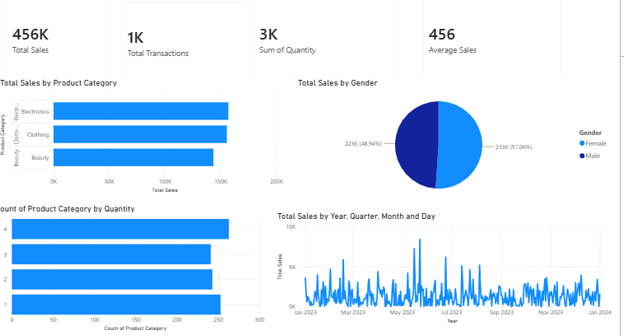

The dashboard page shown, as its layout file describes it:
{"tool":"powerbi","page":{"name":"Page 1","canvas":[1280,720],"ordinal":0},"visuals":[{"type":"cardVisual","fields":{"Data":["retail_sales_dataset.Total Sales"]},"box":[10.1,0,246.9,204.9],"z":0},{"type":"cardVisual","fields":{"Data":["retail_sales_dataset.Total Transactions"]},"box":[245.2,11.8,292.3,193.2],"z":2},{"type":"cardVisual","fields":{"Data":["Sum(retail_sales_dataset.Quantity)"]},"box":[514,0,332.6,204.9],"z":3},{"type":"cardVisual","fields":{"Data":["retail_sales_dataset.Average Sales"]},"box":[860.1,0,317.5,204.9],"z":4},{"type":"clusteredBarChart","fields":{"Category":["retail_sales_dataset.Product Category","retail_sales_dataset.Product Category"],"Y":["retail_sales_dataset.Total Sales"]},"box":[10.1,183.1,587.9,240.2],"z":5},{"type":"pieChart","fields":{"Category":["retail_sales_dataset.Gender"],"Y":["retail_sales_dataset.Total Sales"]},"box":[618.2,183.1,650.1,257],"z":7},{"type":"clusteredBarChart","fields":{"Category":["retail_sales_dataset.Quantity"],"Y":["CountNonNull(retail_sales_dataset.Product Category)"]},"box":[0,440.1,559.4,265.4],"z":8},{"type":"lineChart","fields":{"Y":["retail_sales_dataset.Total Sales"],"Category":["retail_sales_dataset.Date.Variation.Date Hierarchy.Year","retail_sales_dataset.Date.Variation.Date Hierarchy.Quarter","retail_sales_dataset.Date.Variation.Date Hierarchy.Month","retail_sales_dataset.Date.Variation.Date Hierarchy.Day"]},"box":[576.2,455.2,692.1,235.2],"z":9}]}

Visuals, with their boxes on the page's 1280x720 design canvas (x1, y1, x2, y2). These are canvas units, not pixel positions in the 624x336 screenshot, which may show the page scaled, cropped or inside an application window:
cardVisual - retail_sales_dataset.Total Sales: <bbox>10, 0, 257, 205</bbox>
cardVisual - retail_sales_dataset.Total Transactions: <bbox>245, 12, 538, 205</bbox>
cardVisual - Sum(retail_sales_dataset.Quantity): <bbox>514, 0, 847, 205</bbox>
cardVisual - retail_sales_dataset.Average Sales: <bbox>860, 0, 1178, 205</bbox>
clusteredBarChart - retail_sales_dataset.Product Category x retail_sales_dataset.Product Category: <bbox>10, 183, 598, 423</bbox>
pieChart - retail_sales_dataset.Gender x retail_sales_dataset.Total Sales: <bbox>618, 183, 1268, 440</bbox>
clusteredBarChart - retail_sales_dataset.Quantity x CountNonNull(retail_sales_dataset.Product Category): <bbox>0, 440, 559, 706</bbox>
lineChart - retail_sales_dataset.Total Sales x retail_sales_dataset.Date.Variation.Date Hierarchy.Year: <bbox>576, 455, 1268, 690</bbox>
